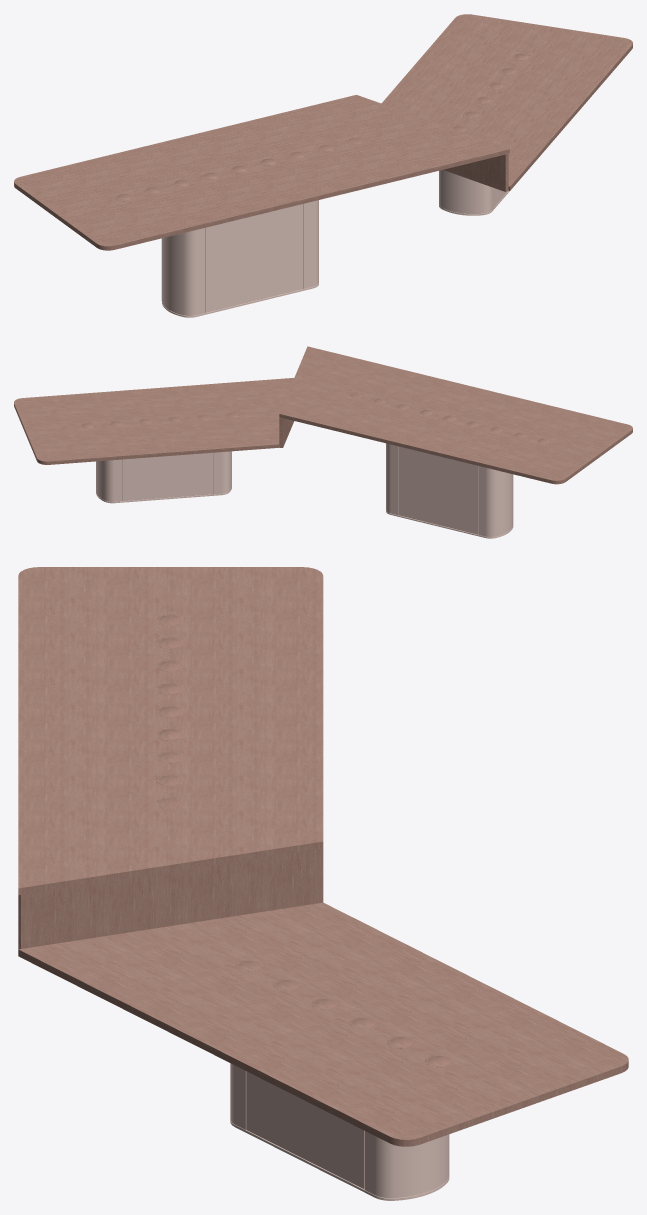
Rendered from Centro_Split.glb.
3 renders of one model, top to bottom at view 1: azimuth 30°, elevation 25°; view 2: azimuth 150°, elevation 25°; view 3: azimuth 270°, elevation 25°, orthographic. The views are drawn at different scales.
Parts seen in each view (by area): view 1: BRep_1; view 2: BRep_1; view 3: BRep_1.
Boxes of the visible parts, x1,y1,x2,y2 form: BRep_1: [14, 14, 632, 317]; BRep_1: [14, 346, 632, 538]; BRep_1: [18, 567, 628, 1200].
Bounding box in the file's own units: 5.76 × 1.06 × 2.9.
Materials: 2 (1 with a texture image).
